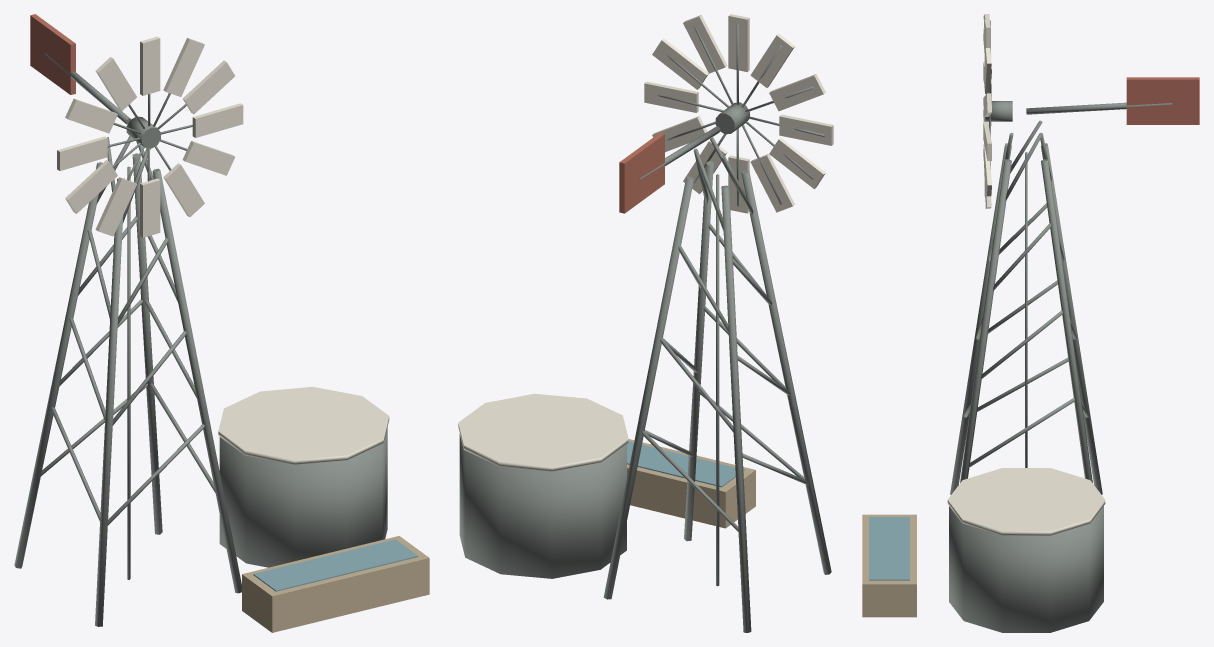
Rendered from arizona-windpump_lod1.glb.
3 views of the same model, side by side, from view 1: azimuth 30°, elevation 25°; view 2: azimuth 150°, elevation 25°; view 3: azimuth 270°, elevation 25° (orthographic). The views are drawn at different scales.
Visible parts, largest first — view 1: RF_WaterTank, RF_TankTop, RF_Trough, RF_WindTower.003, RF_WindTower.001, RF_TroughWater, RF_WindTower.002, RF_WindTower, RF_TailVane, RF_PumpRod, RF_WindBlade.008, RF_WindBlade.002 (+14 smaller); view 2: RF_WaterTank, RF_TankTop, RF_Trough, RF_WindTower.002, RF_WindTower, RF_WindTower.001, RF_WindTower.003, RF_TailVane, RF_TroughWater, RF_PumpRod, RF_WindBlade.010, RF_WindBlade.001 (+14 smaller); view 3: RF_WaterTank, RF_TankTop, RF_TailVane, RF_Trough, RF_TroughWater, RF_WindTower, RF_WindTower.003, RF_WindTower.002, RF_WindTower.001, RF_PumpRod, RF_TailBoom, RF_TowerBrace.004 (+1 smaller).
Part boxes in pixels (x1,y1,x2,y2): RF_WaterTank: [219, 427, 387, 567]; RF_TankTop: [218, 386, 389, 464]; RF_Trough: [242, 536, 429, 632]; RF_WindTower.003: [152, 168, 241, 593]; RF_WindTower.001: [95, 178, 124, 626]; RF_TroughWater: [253, 539, 418, 591]; RF_WindTower.002: [14, 162, 102, 568]; RF_WindTower: [132, 153, 162, 534]; RF_TailVane: [30, 14, 75, 94]; RF_PumpRod: [127, 166, 130, 579]; RF_WindBlade.008: [95, 177, 136, 236]; RF_WindBlade.002: [163, 38, 204, 96]; RF_WaterTank: [459, 434, 626, 578]; RF_TankTop: [458, 393, 628, 471]; RF_Trough: [627, 439, 755, 528]; RF_WindTower.002: [721, 185, 751, 632]; RF_WindTower: [603, 176, 693, 599]; RF_WindTower.001: [741, 170, 831, 574]; RF_WindTower.003: [684, 161, 713, 541]; RF_TailVane: [619, 133, 664, 213]; RF_TroughWater: [627, 441, 744, 487]; RF_PumpRod: [716, 174, 719, 586]; RF_WindBlade.010: [779, 114, 833, 145]; RF_WindBlade.001: [728, 14, 749, 71]; RF_WaterTank: [949, 506, 1103, 632]; RF_TankTop: [947, 468, 1105, 535]; RF_TailVane: [1126, 77, 1199, 124]; RF_Trough: [862, 514, 916, 617]; RF_TroughWater: [869, 517, 909, 580]; RF_WindTower: [1041, 159, 1092, 482]; RF_WindTower.003: [960, 159, 1011, 482]; RF_WindTower.002: [1041, 143, 1102, 494]; RF_WindTower.001: [950, 143, 1011, 494]; RF_PumpRod: [1025, 152, 1027, 467]; RF_TailBoom: [1026, 102, 1172, 114]; RF_TowerBrace.004: [968, 398, 1074, 467].
Bounding box in the file's own units: 7.77 × 12.14 × 7.4.
